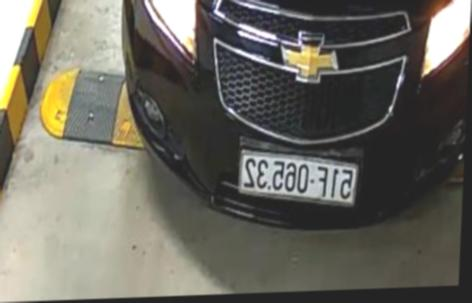License_Plate: (234, 149, 364, 208)
